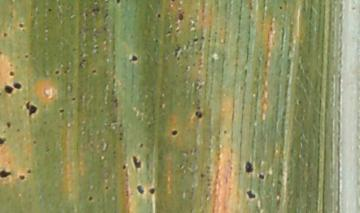tarspot: (24, 100, 38, 119), (243, 159, 254, 174), (135, 182, 146, 196), (131, 155, 142, 169), (245, 189, 257, 201), (12, 80, 23, 91), (3, 84, 14, 95), (1, 169, 13, 179), (128, 54, 138, 63), (194, 110, 203, 119), (173, 44, 182, 53), (257, 171, 265, 181), (148, 186, 156, 196), (177, 12, 184, 23), (170, 128, 178, 137), (17, 173, 26, 181), (5, 120, 12, 129), (57, 107, 66, 114), (1, 135, 7, 145), (198, 172, 206, 179), (8, 70, 16, 77), (153, 37, 160, 45), (31, 138, 38, 145), (222, 128, 228, 136), (17, 22, 25, 28), (191, 37, 199, 43), (138, 142, 144, 149), (87, 195, 93, 202), (26, 168, 32, 175), (2, 31, 8, 38), (54, 69, 60, 76), (104, 185, 110, 191), (70, 96, 76, 102), (155, 13, 161, 19), (23, 53, 29, 59), (199, 34, 205, 40), (278, 5, 284, 11), (121, 163, 126, 170), (46, 7, 53, 12), (90, 69, 97, 74), (14, 127, 21, 132), (174, 27, 181, 32), (165, 30, 173, 34), (115, 1, 122, 5), (176, 55, 180, 62), (169, 1, 178, 2)
